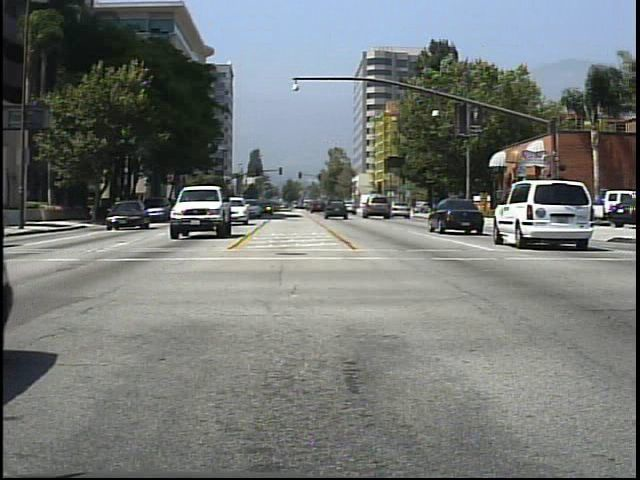person: (506, 191, 525, 230), (461, 191, 479, 226)
